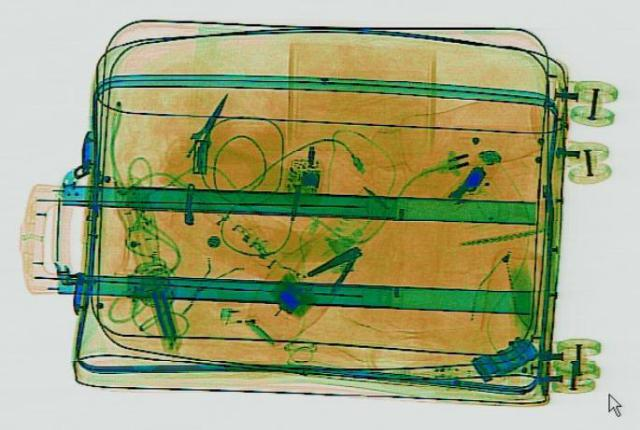Knife: (177, 90, 236, 161)
